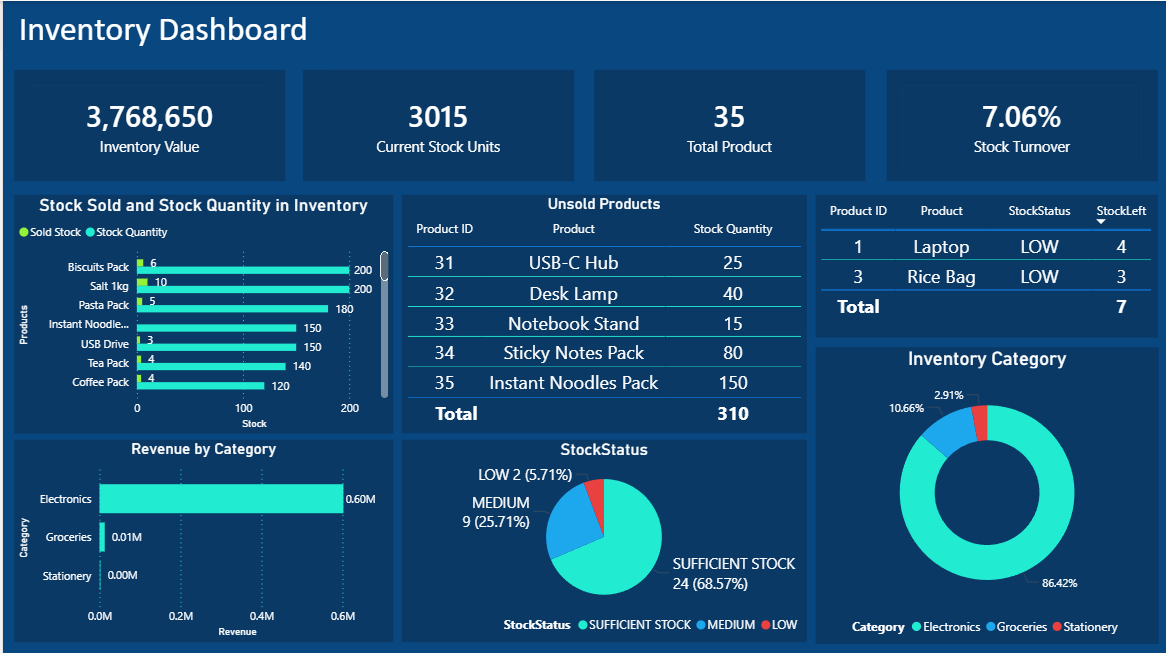

What the dashboard file says about the page in this screenshot:
{"tool":"powerbi","page":{"name":"Page 2","canvas":[1280,720],"ordinal":1},"visuals":[{"type":"pieChart","title":" StockStatus","fields":{"Category":["vw_InventoryReport.StockStatus"],"Y":["CountNonNull(vw_InventoryReport.ProductID)"]},"box":[437.8,482.2,444.4,222.2],"z":0},{"type":"tableEx","title":"Unsold Products","fields":{"Values":["vw_UnsoldProducts.ProductID","vw_UnsoldProducts.ProductName","Sum(vw_UnsoldProducts.StockQuantity)"]},"box":[438.2,212.7,444.5,261.8],"z":1000},{"type":"cardVisual","fields":{"Data":["Sum(Products.TotalProductCost)"]},"box":[12.3,75.5,297.8,122.1],"z":2000},{"type":"cardVisual","fields":{"Data":["Sum(vw_InventoryReport.StockQuantity)"]},"box":[329.3,75.5,297.8,122.1],"z":3000},{"type":"cardVisual","fields":{"Data":["CountNonNull(vw_InventoryReport.ProductID)"]},"box":[649.1,75.5,297.8,122.1],"z":4000},{"type":"donutChart","title":"Inventory value by Category","fields":{"Category":["Categories.CategoryName"],"Y":["Products.InventoryValueByCategory"]},"box":[891.4,380,377.1,325.7],"z":5000},{"type":"clusteredBarChart","title":"Stock Sold and Stock Quantity in Inventory","fields":{"Category":["Products.ProductName"],"Y":["Sum(OrderItems.Quantity)","Sum(Products.StockQuantity)"]},"box":[12.3,212.7,415.8,262.1],"z":6000},{"type":"cardVisual","fields":{"Data":["vw_InventoryReport.StockTurnoverRatio"]},"box":[970.2,75.5,297.8,122.1],"z":7000},{"type":"textbox","box":[12.3,2.7,345.8,72.7],"z":8000},{"type":"tableEx","fields":{"Values":["vw_InventoryReport.ProductID","vw_InventoryReport.ProductName","vw_InventoryReport.StockStatus","Sum(vw_InventoryReport.StockLeft)"]},"box":[891.9,212.7,376,156.4],"z":9000},{"type":"barChart","title":"Revenue by Category","fields":{"Category":["Categories.CategoryName"],"Y":["Sum(OrderItems.Price)"]},"box":[12.3,481.6,415.8,222.3],"z":10000}]}

Visuals, with their boxes in screenshot pixels (x1, y1, x2, y2), scaled from the page's 1280x720 canvas onto the 1166x653 screenshot:
" StockStatus" pieChart: bbox=[399, 437, 804, 639]
"Unsold Products" tableEx: bbox=[399, 193, 804, 430]
cardVisual - Sum(Products.TotalProductCost): bbox=[11, 68, 282, 179]
cardVisual - Sum(vw_InventoryReport.StockQuantity): bbox=[300, 68, 571, 179]
cardVisual - CountNonNull(vw_InventoryReport.ProductID): bbox=[591, 68, 863, 179]
"Inventory value by Category" donutChart: bbox=[812, 345, 1156, 640]
"Stock Sold and Stock Quantity in Inventory" clusteredBarChart: bbox=[11, 193, 390, 431]
cardVisual - vw_InventoryReport.StockTurnoverRatio: bbox=[884, 68, 1155, 179]
textbox: bbox=[11, 2, 326, 68]
tableEx - vw_InventoryReport.ProductID x vw_InventoryReport.ProductName: bbox=[812, 193, 1155, 335]
"Revenue by Category" barChart: bbox=[11, 437, 390, 638]
